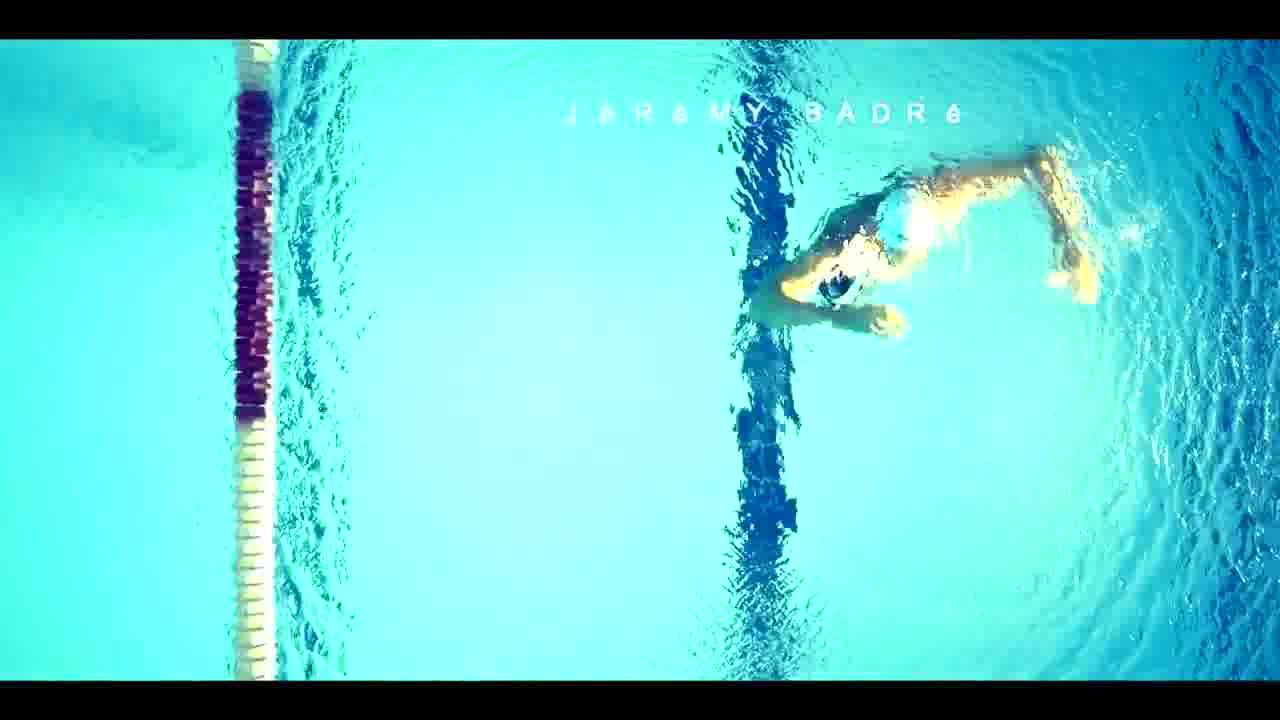swimmer: (716, 128, 1159, 372)
